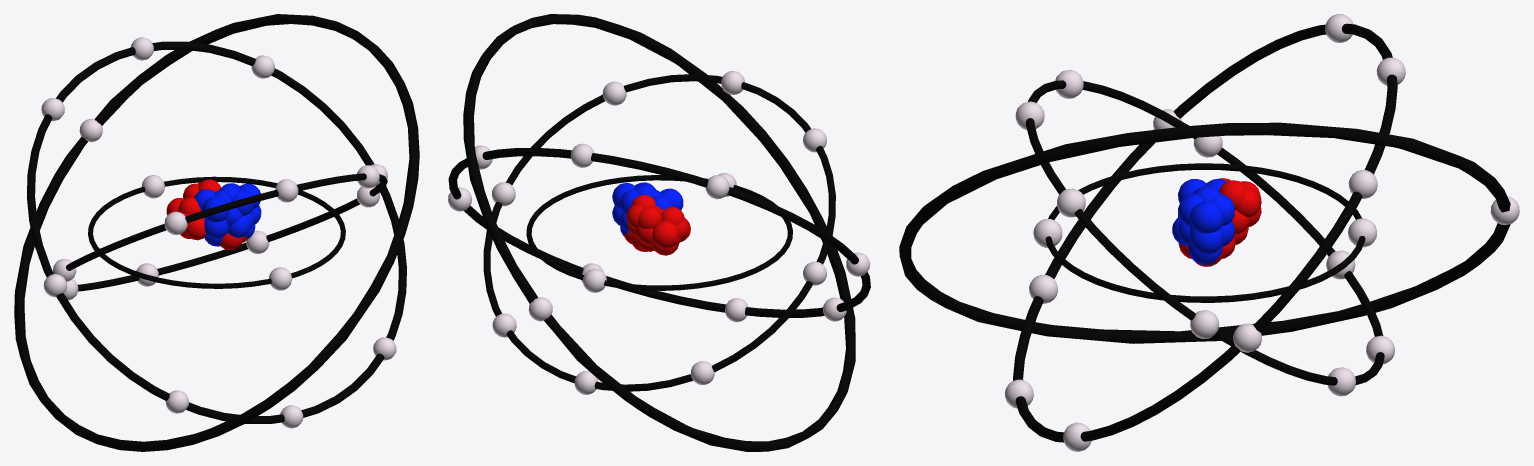
The model's file is 19 Potasio.fbx.
The picture shows the model from 3 angles, left to right: view 1: azimuth 30°, elevation 25°; view 2: azimuth 150°, elevation 25°; view 3: azimuth 270°, elevation 25°; orthographic projection. The views are drawn at different scales.
Visible parts, largest first — view 1: Orbita.004, Orbita.003, Orbita.002, Orbita.001, Neutron.008, Neutron.006, Neutron.001, Electron.009, Electron, Electron.002, Electron.012, Electron.015 (+8 smaller); view 2: Orbita.004, Orbita.003, Orbita.002, Orbita.001, Neutron.005, Neutron.006, Neutron.008, Electron.018, Electron.001, Electron.010, Electron.006, Electron.014 (+10 smaller); view 3: Orbita.004, Orbita.003, Orbita.002, Orbita.001, Neutron.006, Neutron.003, Electron.016, Electron.008, Electron.010, Electron.015, Electron.012, Electron (+2 smaller).
Boxes of the visible parts, left/top/right/bottom form: Orbita.004: left=14, top=14, right=419, bottom=451; Orbita.003: left=27, top=41, right=406, bottom=423; Orbita.002: left=66, top=173, right=387, bottom=291; Orbita.001: left=88, top=176, right=345, bottom=288; Neutron.008: left=194, top=189, right=231, bottom=221; Neutron.006: left=222, top=183, right=260, bottom=215; Neutron.001: left=204, top=218, right=228, bottom=246; Electron.009: left=164, top=211, right=187, bottom=234; Electron: left=269, top=267, right=292, bottom=290; Electron.002: left=275, top=179, right=298, bottom=202; Electron.012: left=165, top=390, right=188, bottom=413; Electron.015: left=251, top=55, right=274, bottom=78; Orbita.004: left=463, top=14, right=855, bottom=451; Orbita.003: left=448, top=148, right=870, bottom=317; Orbita.002: left=483, top=74, right=835, bottom=391; Orbita.001: left=526, top=175, right=792, bottom=290; Neutron.005: left=652, top=218, right=688, bottom=255; Neutron.006: left=612, top=182, right=655, bottom=214; Neutron.008: left=648, top=188, right=683, bottom=210; Electron.018: left=528, top=297, right=552, bottom=321; Electron.001: left=583, top=268, right=606, bottom=292; Electron.010: left=602, top=81, right=626, bottom=105; Electron.006: left=690, top=361, right=714, bottom=384; Electron.014: left=705, top=175, right=729, bottom=199; Orbita.004: left=899, top=122, right=1510, bottom=343; Orbita.003: left=1013, top=23, right=1397, bottom=442; Orbita.002: left=1026, top=80, right=1384, bottom=385; Orbita.001: left=1045, top=163, right=1365, bottom=302; Neutron.006: left=1178, top=194, right=1234, bottom=233; Neutron.003: left=1178, top=221, right=1234, bottom=264; Electron.016: left=1233, top=323, right=1261, bottom=352; Electron.008: left=1190, top=310, right=1219, bottom=338; Electron.010: left=1057, top=188, right=1085, bottom=217; Electron.015: left=1348, top=170, right=1377, bottom=198; Electron.012: left=1029, top=274, right=1057, bottom=303; Electron: left=1033, top=219, right=1062, bottom=247.
Size of the model in its own units: 14.35 by 12.42 by 10.13.
